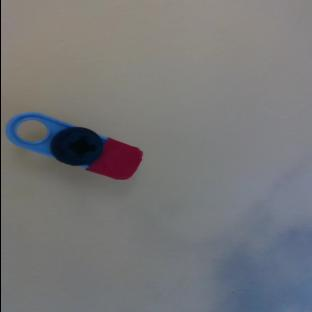part_1_good: (0, 105, 145, 185)
